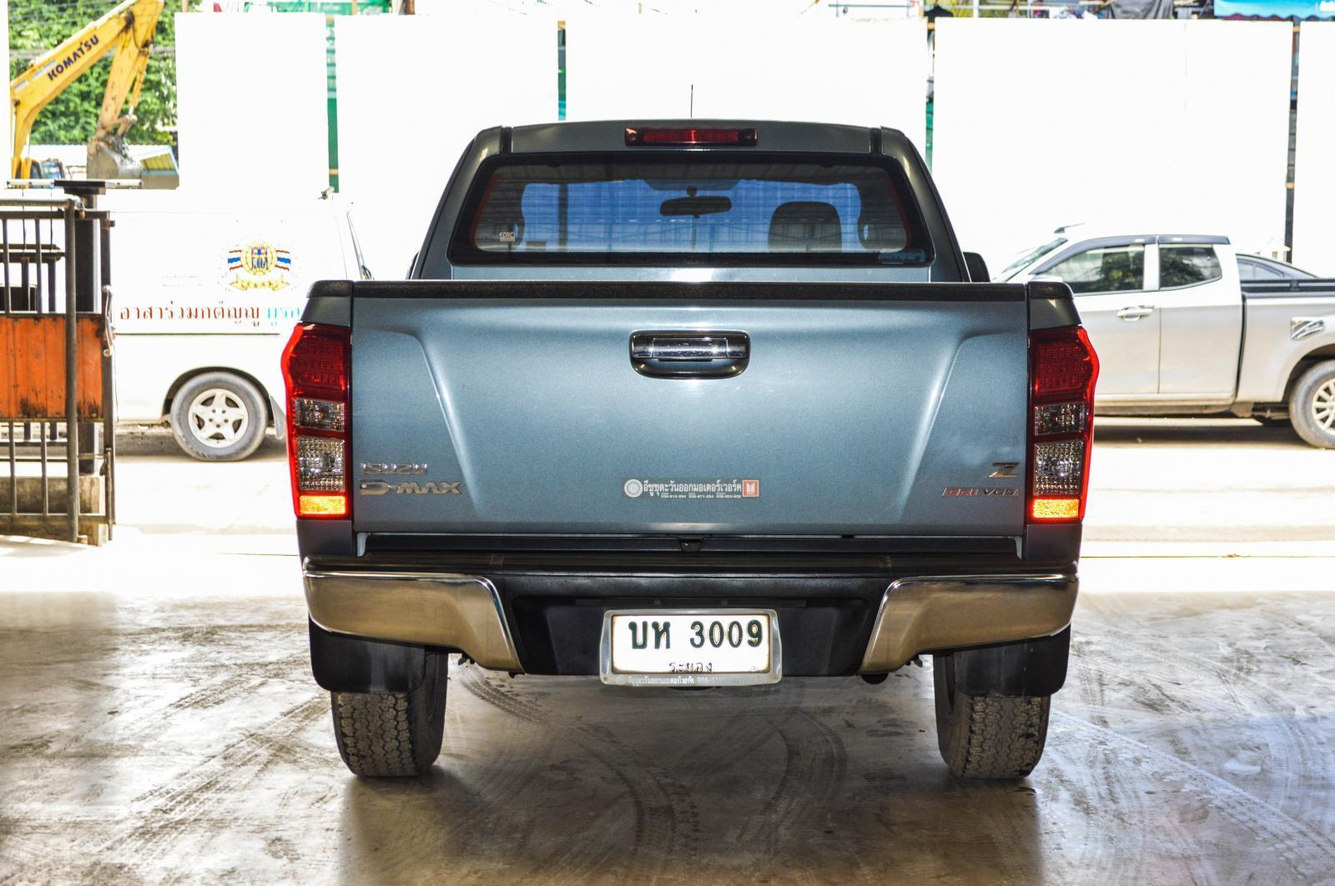license-plate: (602, 608, 780, 685)
